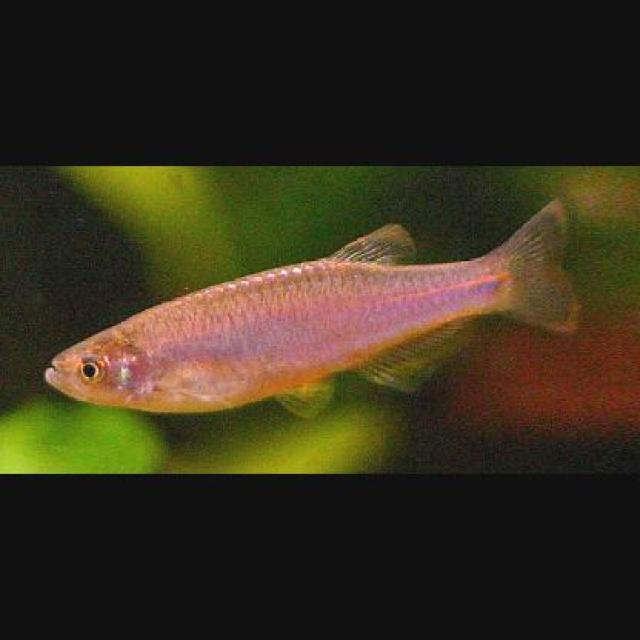ZebraFish: (44, 219, 577, 414)
